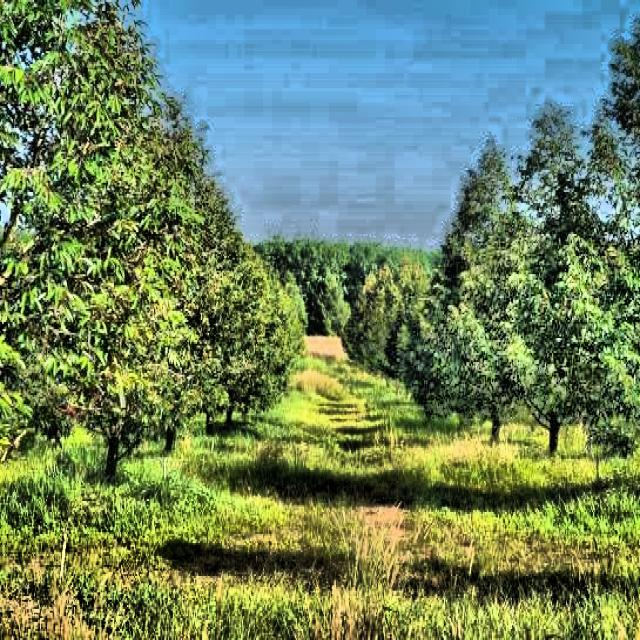arvore: (95, 372, 124, 485), (538, 366, 566, 474), (482, 372, 507, 452)
